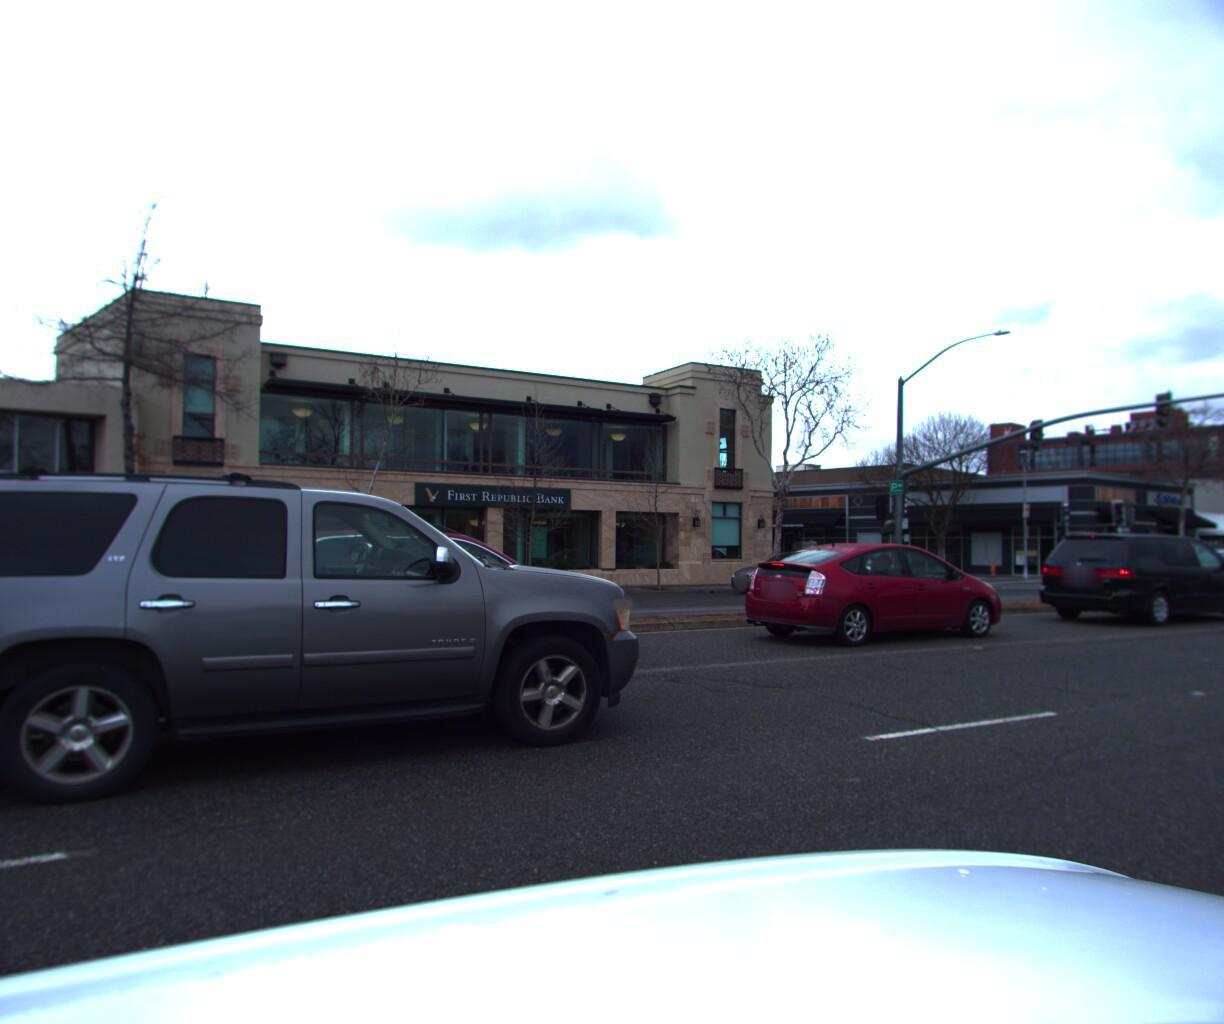car: (0, 437, 650, 858), (191, 511, 651, 697), (727, 540, 1022, 659), (1027, 532, 1224, 635), (691, 555, 814, 604), (1182, 555, 1224, 595), (1206, 550, 1224, 622)
